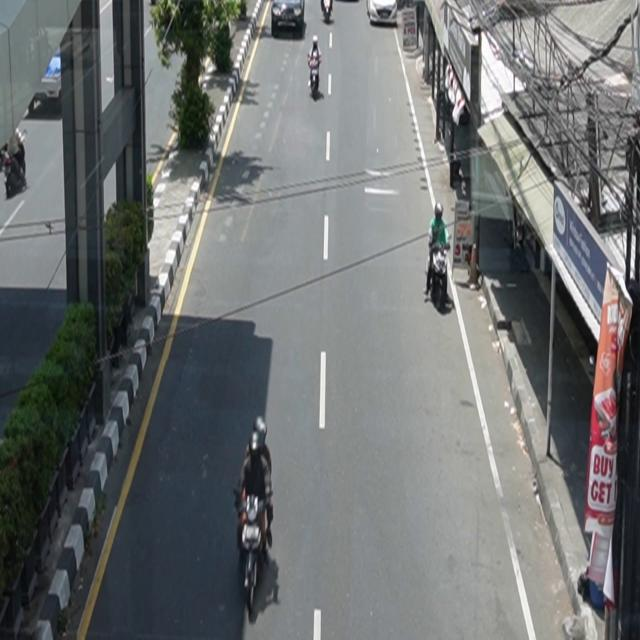car: (271, 1, 305, 38), (367, 1, 398, 26)
